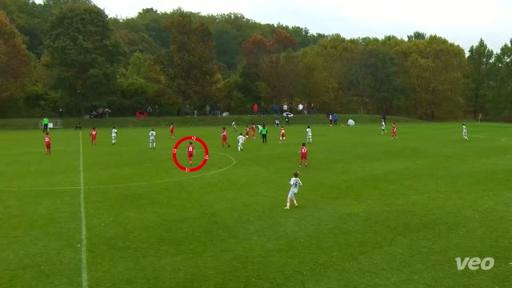highlight_overlay: (171, 135, 211, 174)
